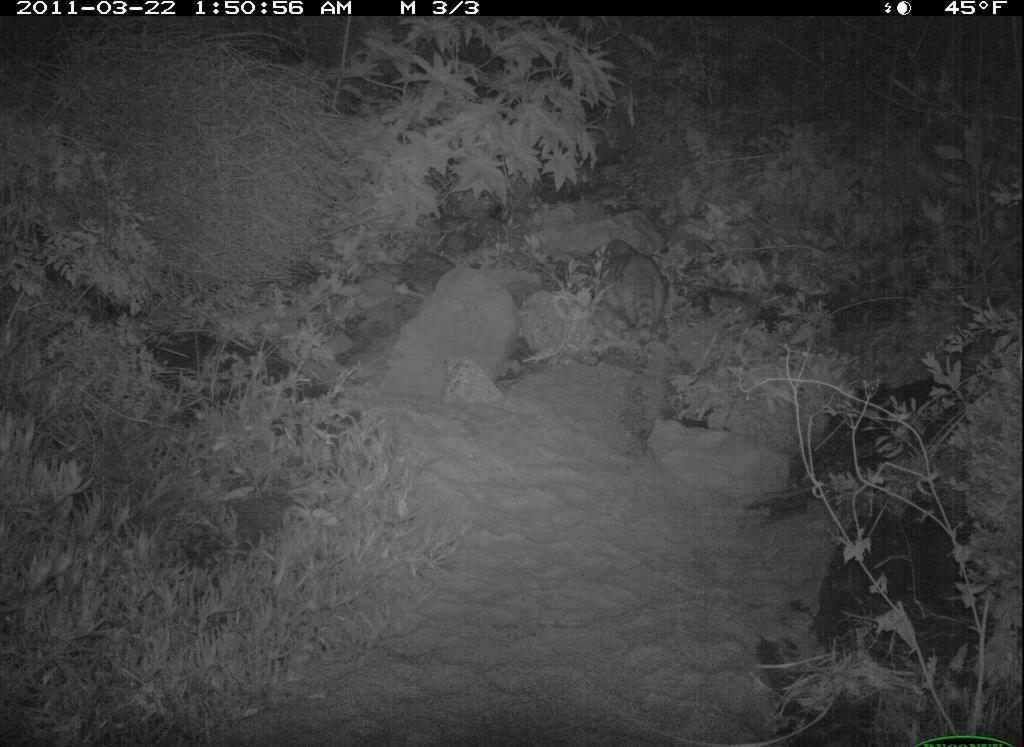raccoon: (578, 222, 697, 381)
